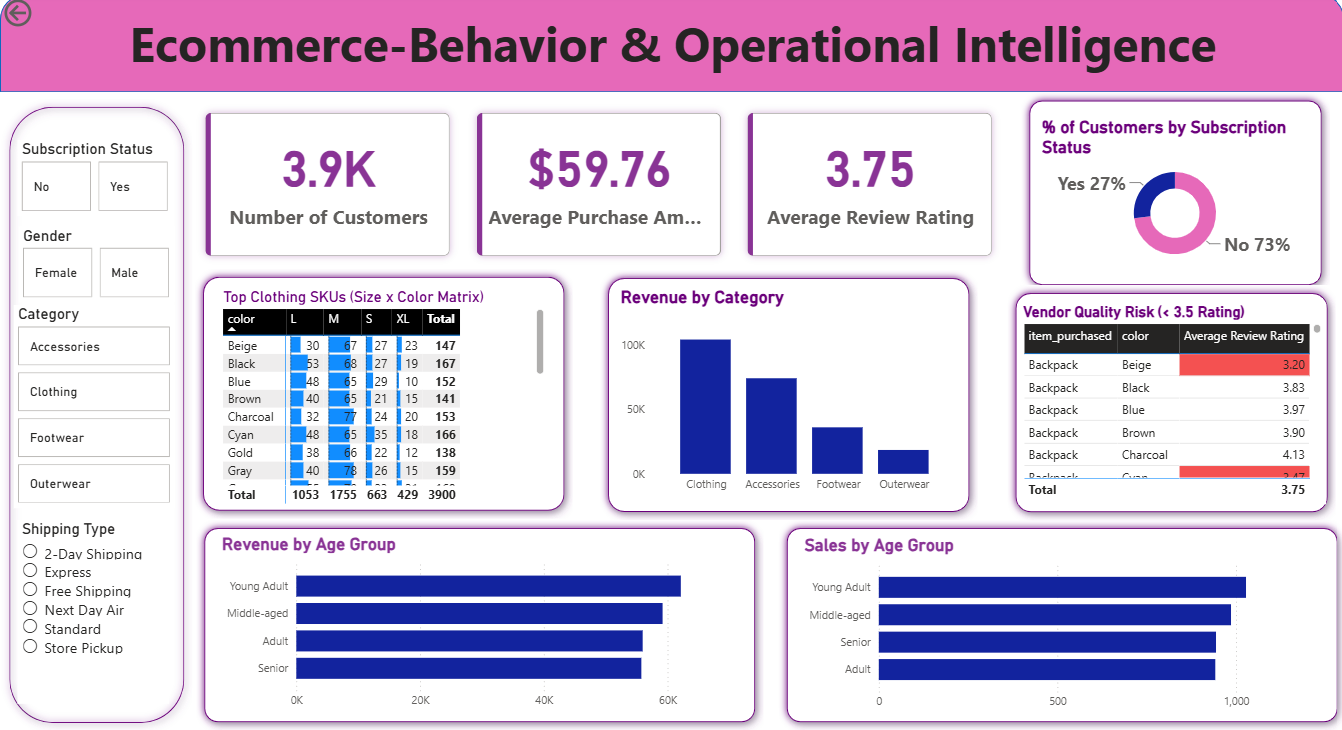

Layout of this report page (visuals, bound fields, positions):
{"tool":"powerbi","page":{"name":"Page 1","canvas":[1500,820],"ordinal":0},"visuals":[{"type":"cardVisual","fields":{"Data":["public customer.Number of Customers","public customer.Average Purchase Amount","public customer.Average Review Rating"]},"box":[213.3,115.5,909.4,191.1],"z":0},{"type":"shape","box":[0,0,1498.8,108.1],"z":1000},{"type":"textbox","box":[0,12.4,1499.4,102.9],"z":2000},{"type":"shape","box":[218.3,585.6,631.7,234.2],"z":2500,"group":"g1"},{"type":"shape","box":[1156.7,108.1,343.6,223.6],"z":3000},{"type":"donutChart","title":"% of Customers by Subscription Status","fields":{"Category":["public customer.subscription_status"],"Y":["CountNonNull(public customer.customer_id)"]},"box":[1174.5,134.8,306.6,170.3],"z":4000},{"type":"shape","box":[1122.6,322.9,365.8,262.1],"z":5000},{"type":"shape","box":[668.5,306.4,420.5,278.6],"z":6000},{"type":"clusteredColumnChart","title":"Revenue by Category","fields":{"Y":["Sum(public customer.purchase_amount)"],"Category":["public customer.category"]},"box":[686.6,325.9,385.1,237.8],"z":7000},{"type":"shape","box":[0,115.3,212.9,704.5],"z":8000},{"type":"advancedSlicerVisual","fields":{"Values":["public customer.subscription_status"]},"box":[19.5,161.5,173.9,85.2],"z":9000},{"type":"advancedSlicerVisual","fields":{"Values":["public customer.gender"]},"box":[19.5,264.4,173.9,85.2],"z":10000},{"type":"advancedSlicerVisual","fields":{"Values":["public customer.category"]},"box":[14.8,358.4,179.2,226.6],"z":11000},{"type":"listSlicer","fields":{"Values":["public customer.shipping_type"]},"box":[19.3,601.4,168.8,186.5],"z":12000},{"type":"shape","box":[867.7,585.6,631.7,234.2],"z":13000},{"type":"clusteredBarChart","title":"Sales by Age Group","fields":{"Y":["CountNonNull(public customer.customer_id)"],"Category":["public customer.age_group"]},"box":[890.8,601.5,585.6,204.1],"z":14000},{"type":"group","id":"g1","title":"Group 1","box":[218.3,585.6,631.7,234.2],"z":15000},{"type":"tableEx","title":"Vendor Quality Risk (< 3.5 Rating)","fields":{"Values":["public customer.item_purchased","public customer.color","public customer.Average Review Rating"]},"box":[1134.5,342.1,342.1,225.1],"z":16000},{"type":"actionButton","box":[0,0,100,40],"z":17000},{"type":"clusteredBarChart","title":"Revenue by Age Group","fields":{"Y":["Sum(public customer.purchase_amount)"],"Category":["public customer.age_group"]},"box":[241.4,601.6,585.6,204.1],"z":17500,"group":"g1"},{"type":"shape","box":[217.7,305.1,420.5,278.6],"z":19000},{"type":"pivotTable","title":"Top Clothing SKUs (Size x Color Matrix)","fields":{"Rows":["public customer.color"],"Columns":["public customer.size"],"Values":["CountNonNull(public customer.customer_id)"]},"box":[243.7,325.5,367.3,245.9],"z":19500}]}

Visuals, with their boxes in screenshot pixels (x1, y1, x2, y2), scaled from the page's 1500x820 canvas onto the 1342x730 screenshot:
cardVisual - public customer.Number of Customers x public customer.Average Purchase Amount: crop(191, 103, 1004, 273)
shape: crop(0, 0, 1341, 96)
textbox: crop(0, 11, 1341, 103)
shape: crop(195, 521, 760, 729)
shape: crop(1035, 96, 1341, 295)
"% of Customers by Subscription Status" donutChart: crop(1051, 120, 1325, 272)
shape: crop(1004, 287, 1332, 521)
shape: crop(598, 273, 974, 521)
"Revenue by Category" clusteredColumnChart: crop(614, 290, 959, 502)
shape: crop(0, 103, 190, 729)
advancedSlicerVisual - public customer.subscription_status: crop(17, 144, 173, 220)
advancedSlicerVisual - public customer.gender: crop(17, 235, 173, 311)
advancedSlicerVisual - public customer.category: crop(13, 319, 174, 521)
listSlicer - public customer.shipping_type: crop(17, 535, 168, 701)
shape: crop(776, 521, 1341, 729)
"Sales by Age Group" clusteredBarChart: crop(797, 535, 1321, 717)
"Group 1" group: crop(195, 521, 760, 729)
"Vendor Quality Risk (< 3.5 Rating)" tableEx: crop(1015, 305, 1321, 505)
actionButton: crop(0, 0, 89, 36)
"Revenue by Age Group" clusteredBarChart: crop(216, 536, 740, 717)
shape: crop(195, 272, 571, 520)
"Top Clothing SKUs (Size x Color Matrix)" pivotTable: crop(218, 290, 547, 509)
